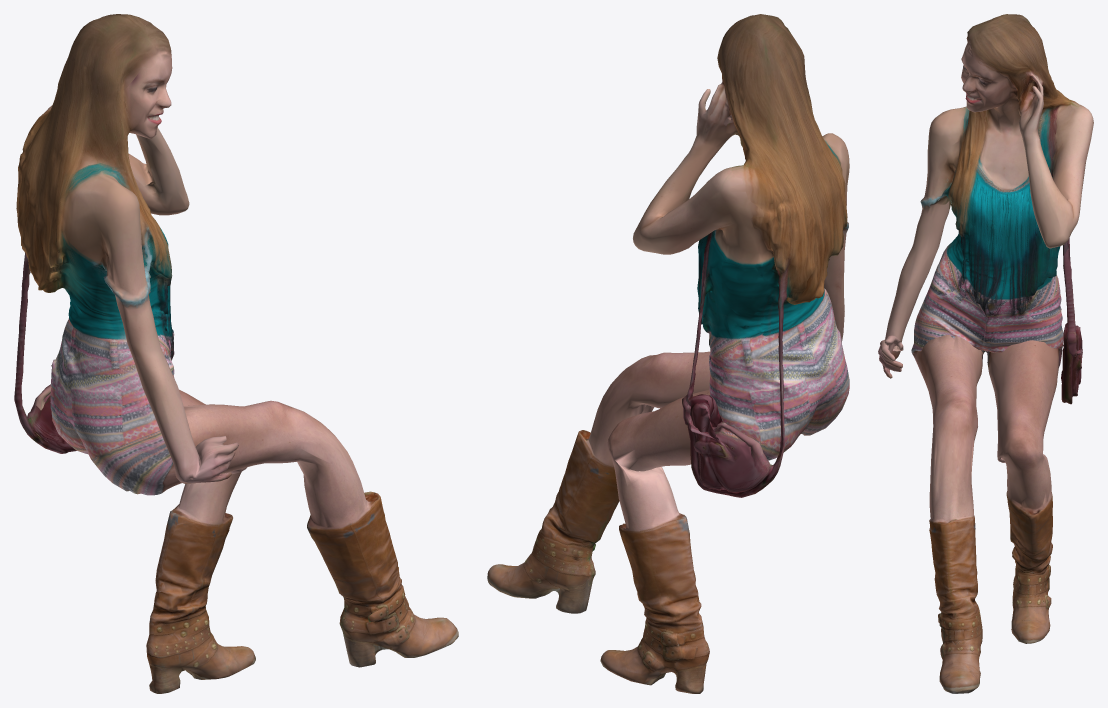
Rendered from people_girl_sedi.glb.
The picture shows the model from 3 angles, left to right: view 1: azimuth 30°, elevation 25°; view 2: azimuth 150°, elevation 25°; view 3: azimuth 270°, elevation 25°; orthographic projection. The views are drawn at different scales.
Size of the model in its own units: 0.8317 by 1.44 by 0.4896.
1 material, 1 textured.
